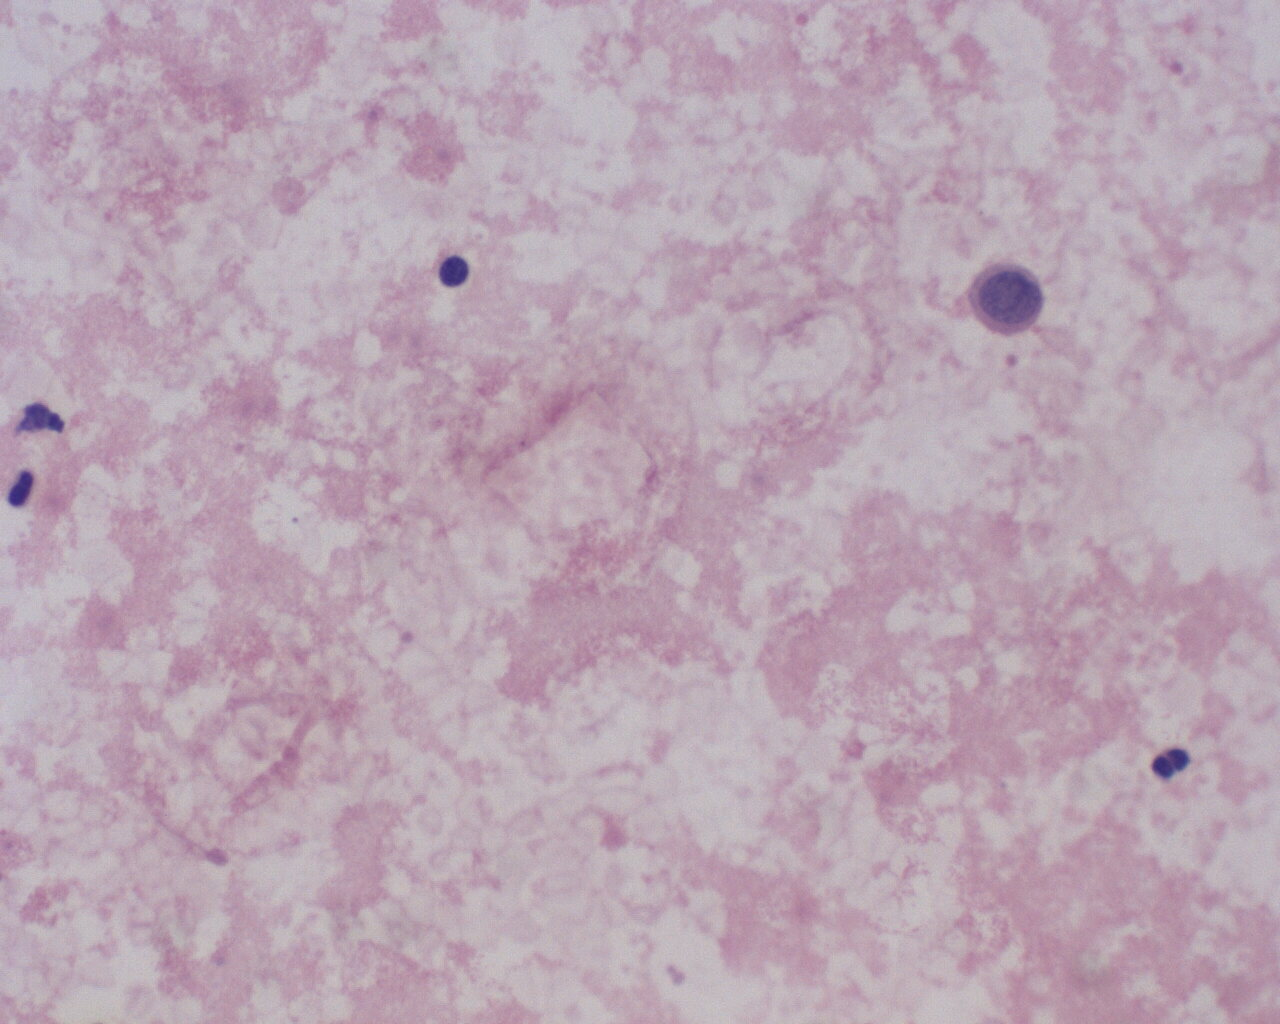ab: (964, 256, 1052, 341)
lymph: (434, 252, 475, 290)
